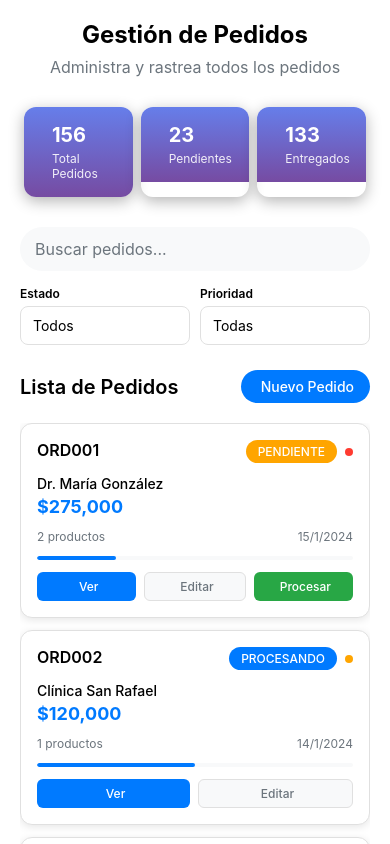
OrdersScreen › selects all status filter option
Note: Abrir el modal de filtro de estado
Click the text "Todos": (53, 326) [33,317,74,334]
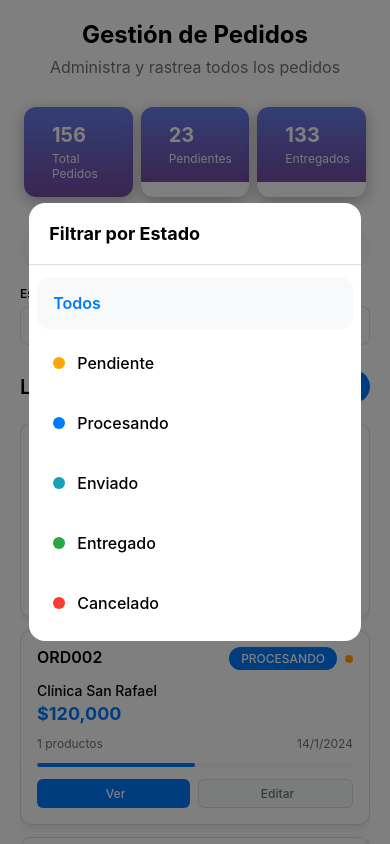
Note: El último debería ser el del modal
Click the text "Todos": (77, 303) [53,293,101,313]
(page scrolled)
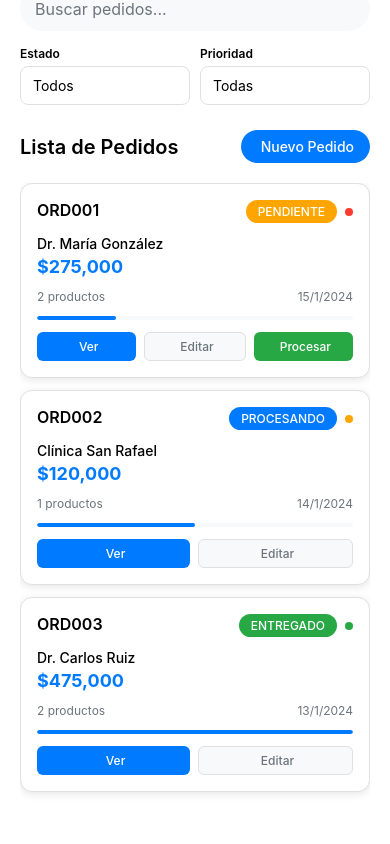
Check: the text "ORD001" is shown, box [37,200,99,220]
Check: the text "ORD003" is shown, box [37,614,103,634]
